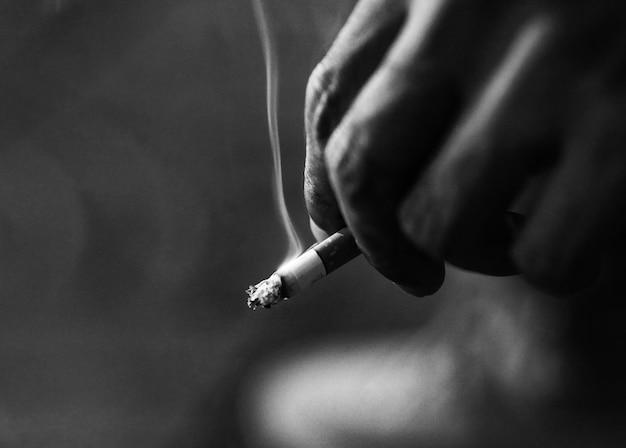cigarette: (246, 228, 360, 309)
